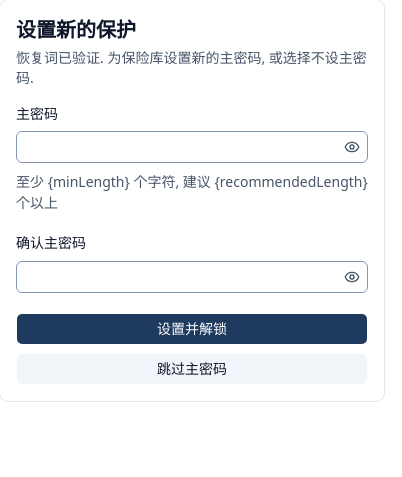
it: RestoreProtectionStep 设置新主密码 › 桥报告失败时在顶部提示条显示
In the password field labelled "主密码": (178, 147) [17, 131, 340, 163], type "new long password"
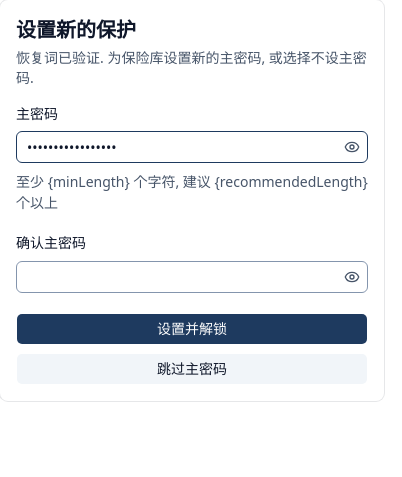
In the password field labelled "确认主密码": (178, 276) [17, 260, 340, 292], type "new long password"
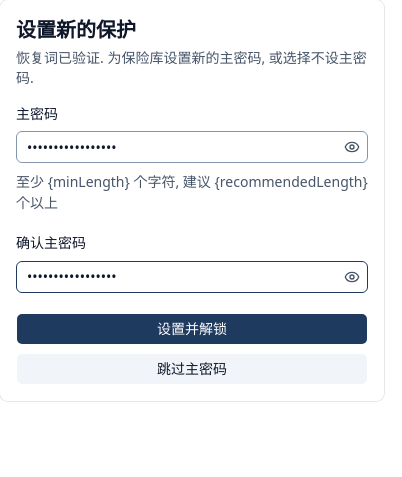
Click the button "设置并解锁": (192, 328) [16, 312, 368, 344]
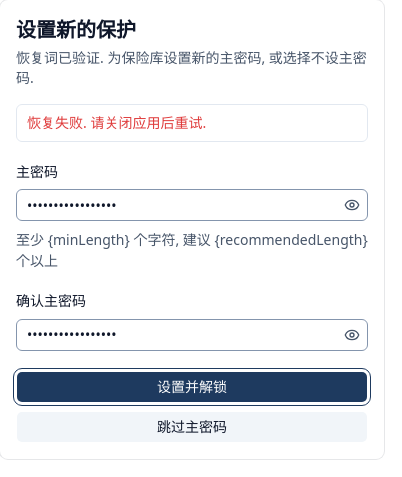
Now the message reads "恢复失败. 请关闭应用后重试.", box [27, 113, 206, 132]
